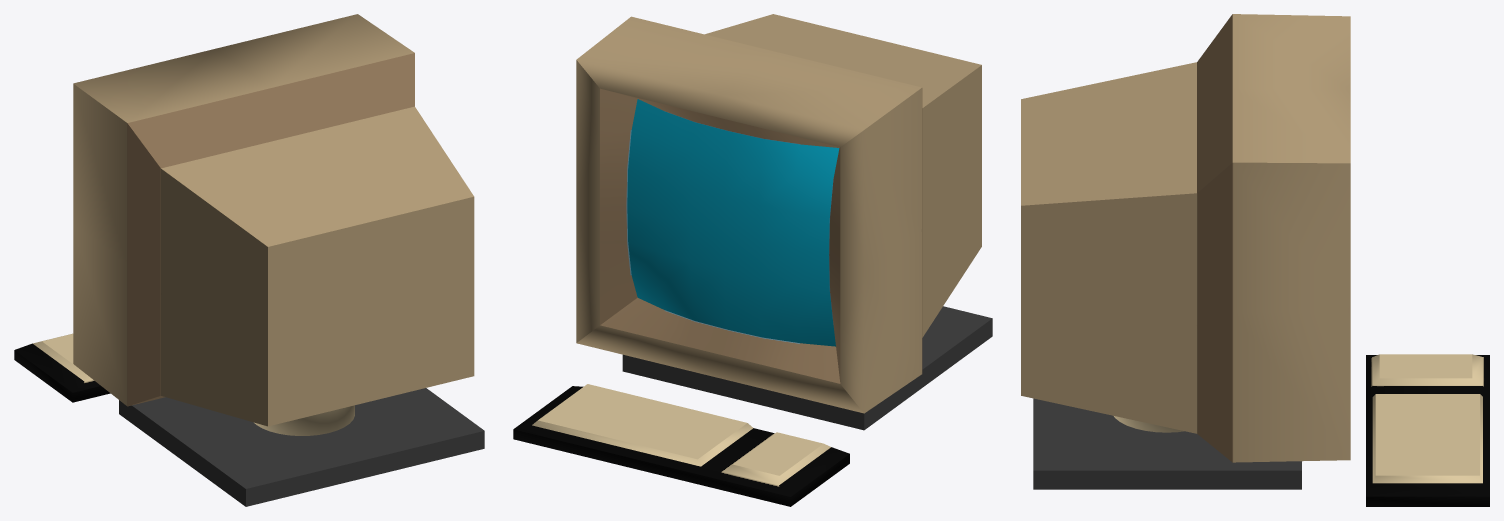
Rendered from retro_PC.fbx.
3 views of the same model, side by side, from view 1: azimuth 30°, elevation 25°; view 2: azimuth 150°, elevation 25°; view 3: azimuth 270°, elevation 25° (orthographic). The views are drawn at different scales.
Parts seen in each view (by area): view 1: mesh_OldPC; view 2: mesh_OldPC; view 3: mesh_OldPC.
Part boxes in pixels (box(x1,y1,x2,y2)): mesh_OldPC: box(14, 14, 484, 506); mesh_OldPC: box(513, 14, 992, 506); mesh_OldPC: box(1021, 14, 1489, 506).
Size of the model in its own units: 0.6 by 0.6533 by 0.8.
Materials: 1 (1 with a texture image).
